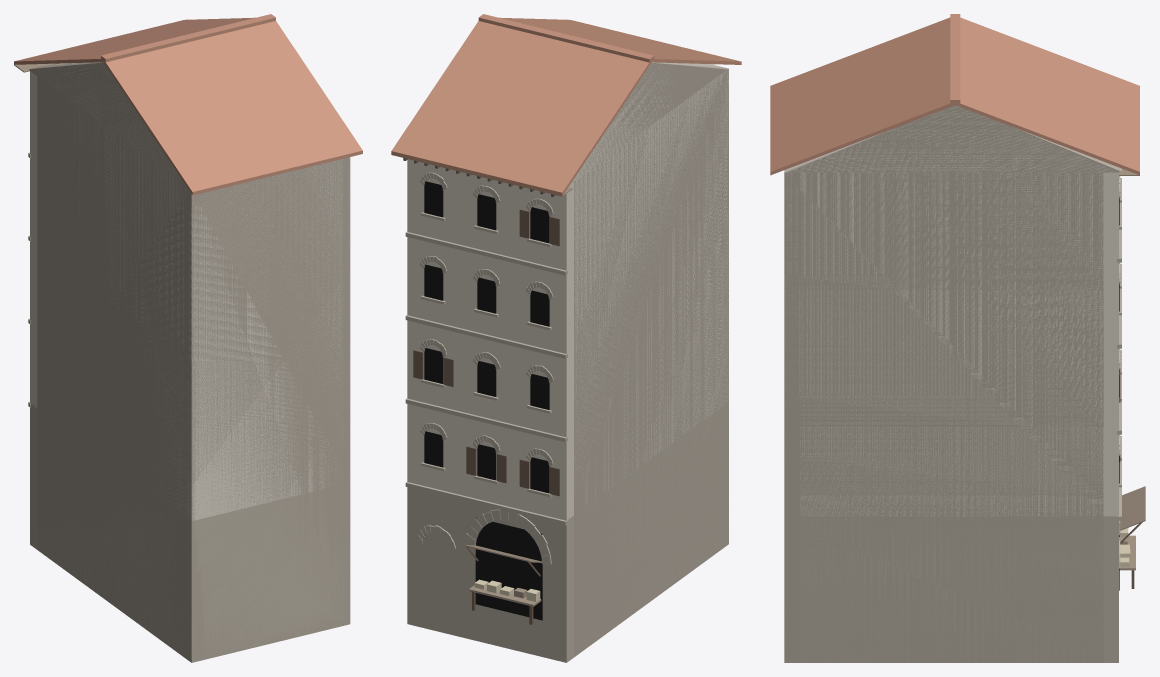
File: casa-68-4-intonaco.glb
3 renders of one model, left to right at view 1: azimuth 30°, elevation 25°; view 2: azimuth 150°, elevation 25°; view 3: azimuth 270°, elevation 25°, orthographic. The views are drawn at different scales.
Visible parts, largest first — view 1: vicino, lontano; view 2: vicino, lontano, aperta; view 3: vicino, lontano, aperta.
Part boxes in pixels (x1,y1,x2,y2): vicino: (14, 14, 362, 662); lontano: (14, 59, 362, 660); vicino: (391, 14, 741, 662); lontano: (395, 59, 730, 662); aperta: (463, 545, 541, 624); vicino: (770, 14, 1139, 662); lontano: (772, 103, 1139, 662); aperta: (1119, 486, 1145, 588).
Bounding box in the file's own units: 7.3 × 22.38 × 13.45.
